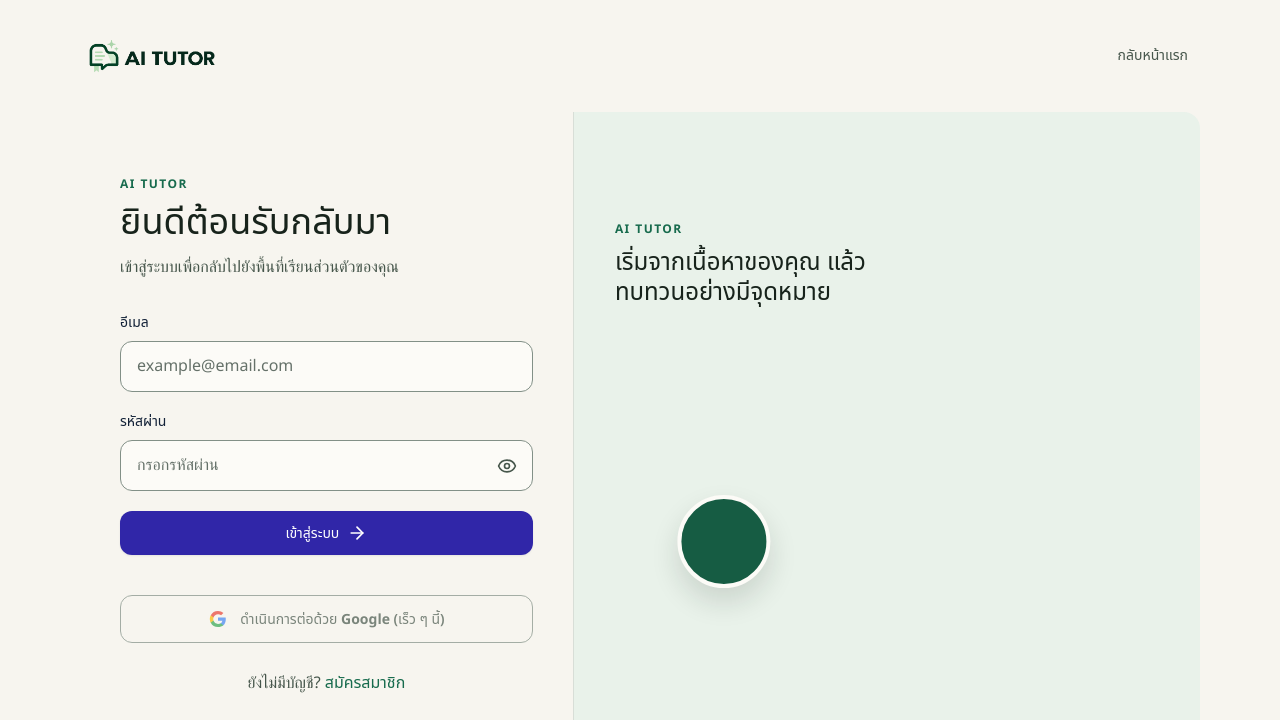
LoginPage › uses an availability message when login cannot reach a safe response
Type "student@example.com" into the field labelled "อีเมล" at coordinates (326, 366), box [120,341,533,392]
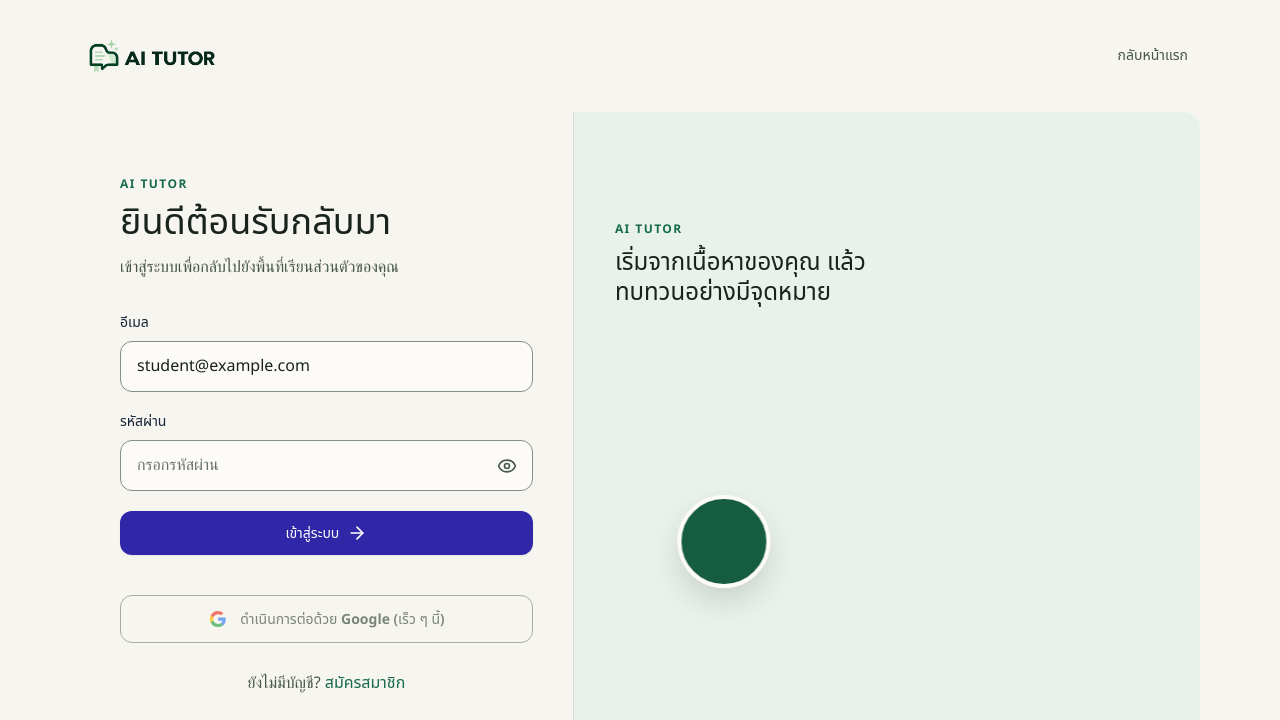
Type "learning123" into the password field labelled "รหัสผ่าน" at coordinates (326, 466), box [120,440,533,491]
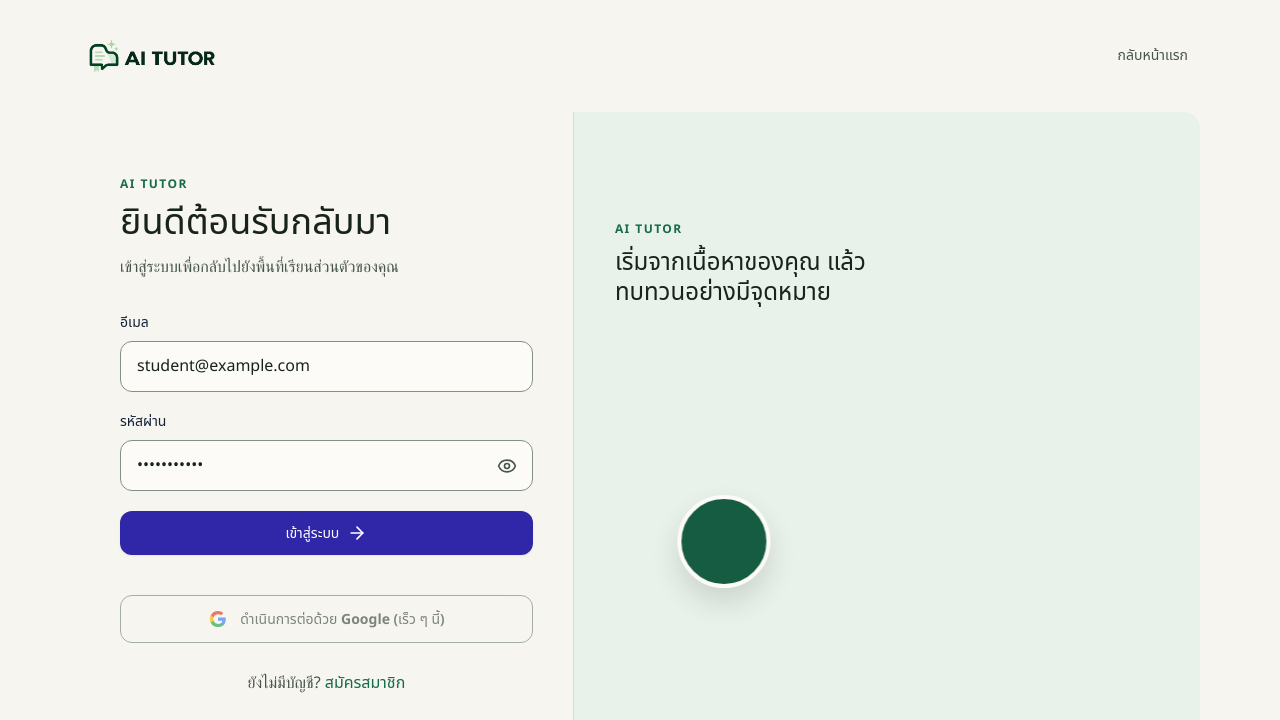
Click the button "เข้าสู่ระบบ" at coordinates (326, 533), box [120,511,533,555]
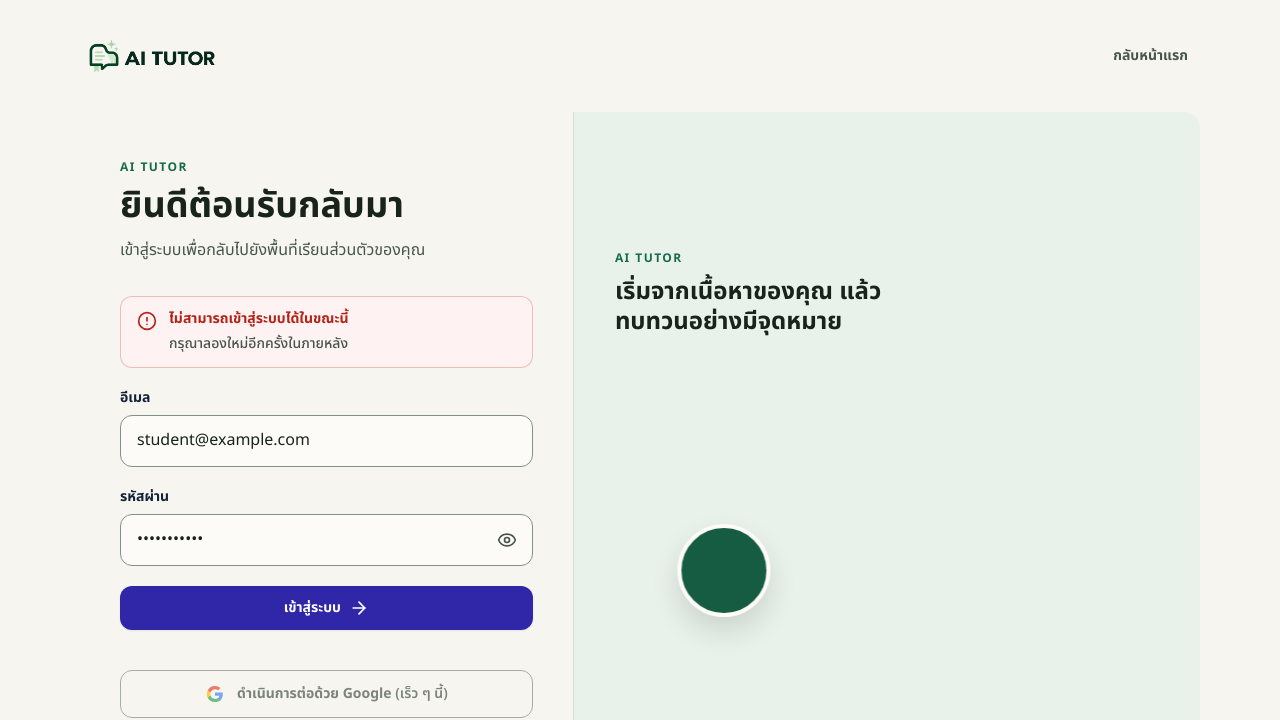
Expected: the message does not show "Network unavailable", [120,296,533,368]
Expected: the message shows "ไม่สามารถเข้าสู่ระบบได้ในขณะนี้", [169,308,348,329]
Expected: the message shows "กรุณาลองใหม่อีกครั้งในภายหลัง", [169,333,348,354]
